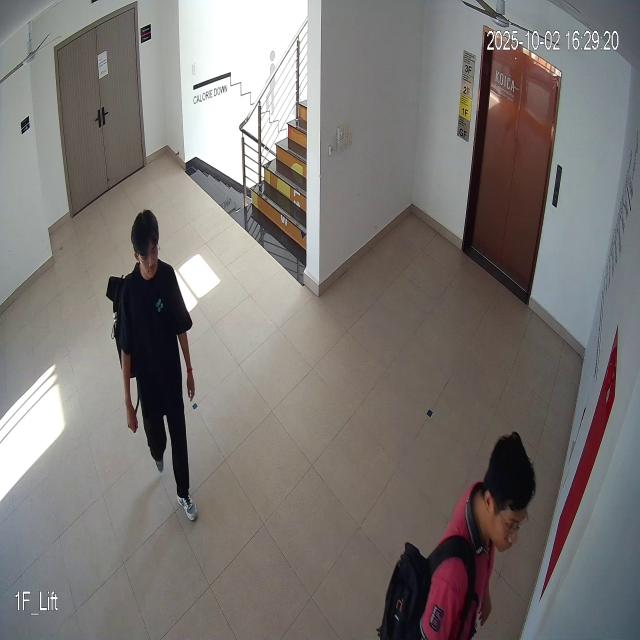face: (129, 205, 167, 282)
